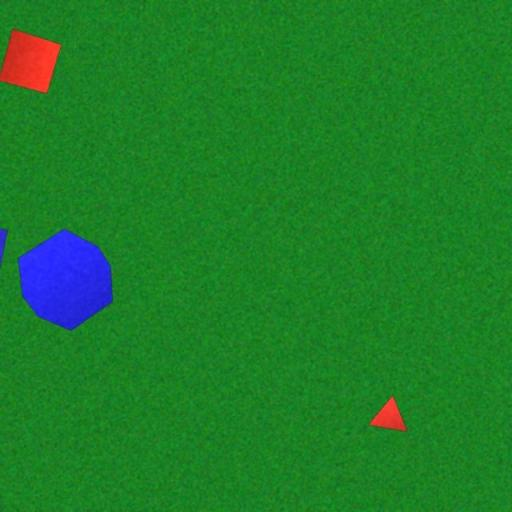RED_SQUARE: (0, 27, 62, 94)
